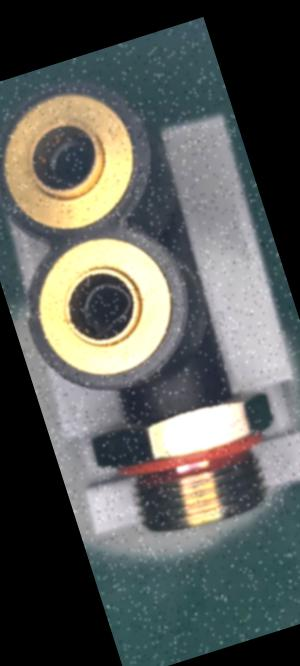bump: (18, 293, 45, 332), (122, 96, 147, 131)
off-centered: (70, 270, 146, 341)
white mark: (160, 394, 175, 413)
